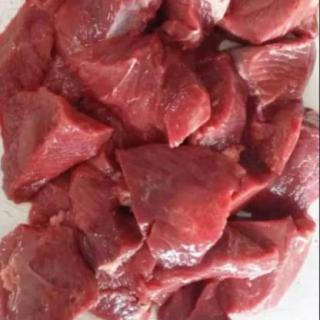Daging Sapi: (6, 4, 320, 320), (117, 150, 227, 263), (75, 54, 206, 144), (30, 1, 161, 76), (3, 223, 103, 320), (219, 214, 312, 317), (4, 93, 97, 194), (74, 166, 143, 278), (1, 1, 62, 99), (220, 1, 319, 52), (209, 55, 251, 162), (247, 46, 314, 109)
